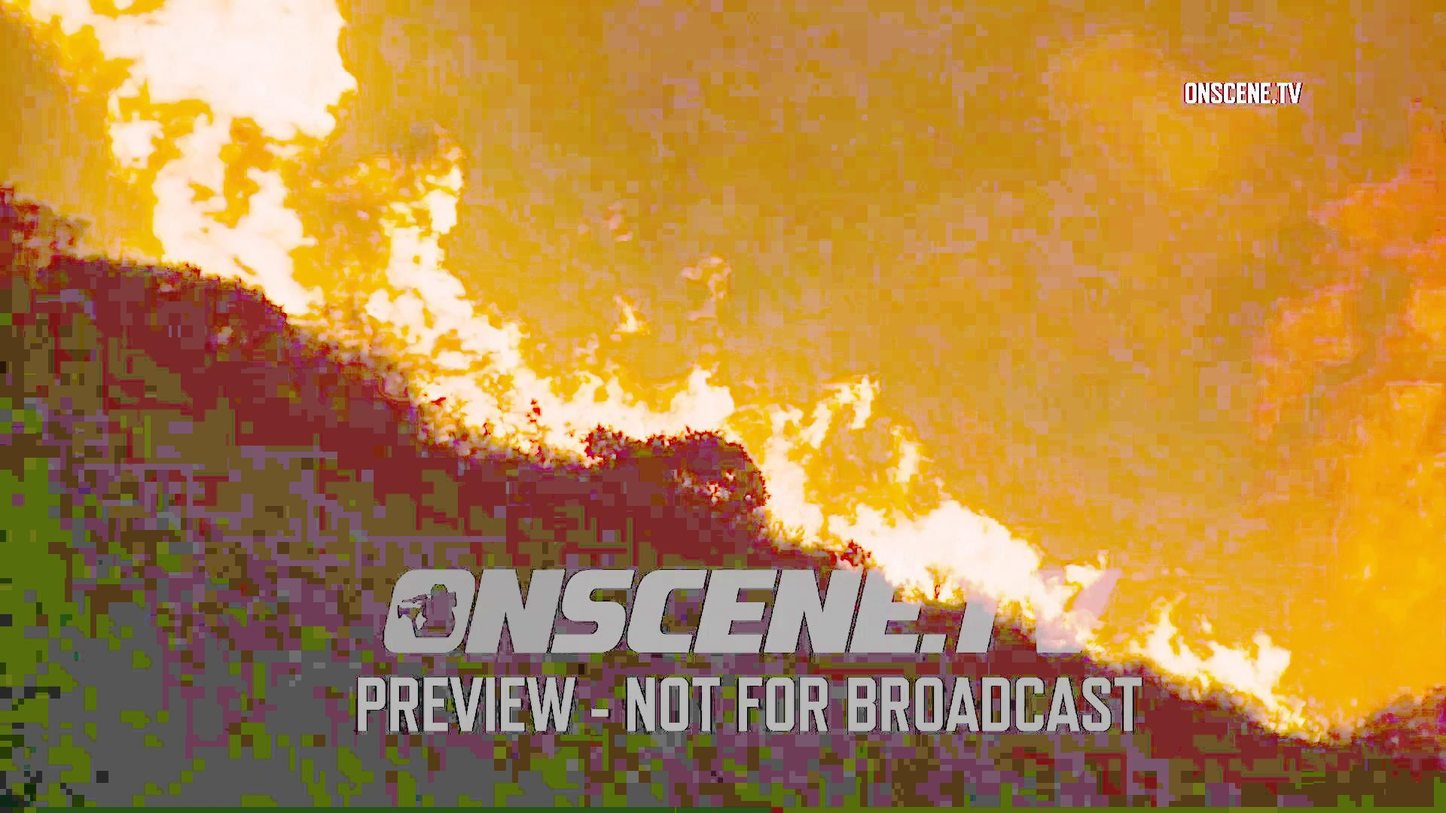fire: (311, 172, 737, 424), (28, 0, 343, 320), (764, 387, 1057, 599), (1055, 568, 1301, 699)
